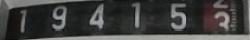digits: (212, 9, 231, 37), (168, 2, 186, 29), (88, 3, 104, 28), (51, 4, 66, 29), (130, 1, 140, 28), (19, 9, 27, 32)
